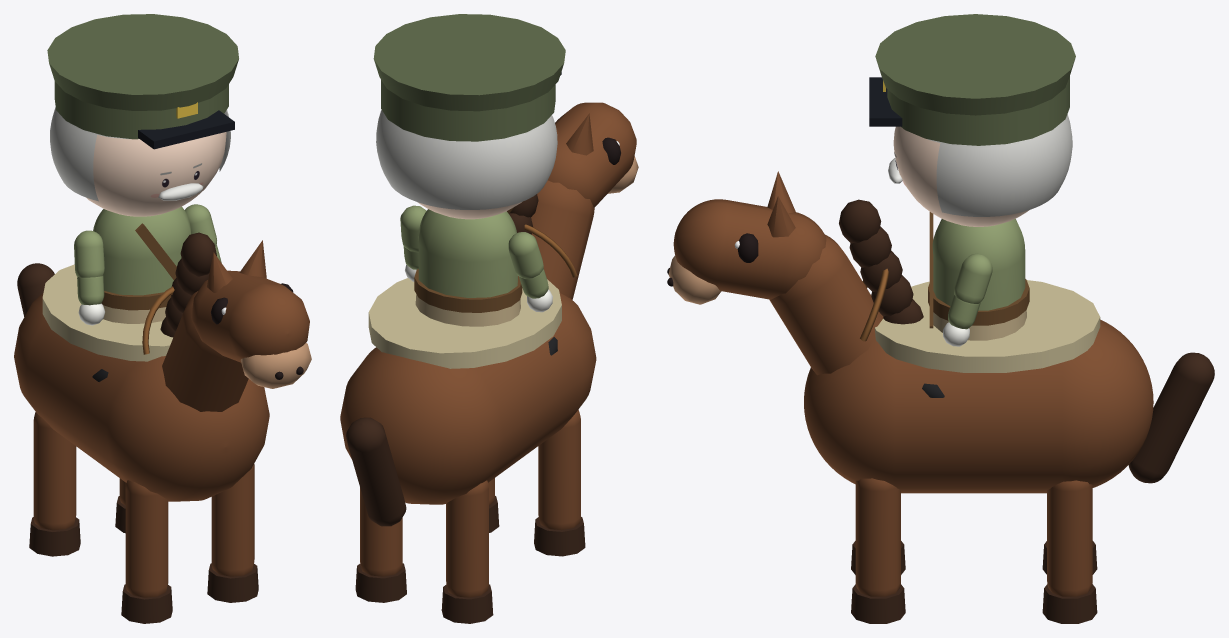
File: old_principal.glb
3 views of the same model, side by side, from view 1: azimuth 30°, elevation 25°; view 2: azimuth 150°, elevation 25°; view 3: azimuth 270°, elevation 25° (orthographic). The views are drawn at different scales.
Visible parts, largest first — view 1: part_51, part_41, part_33, part_77, part_2, part_74, part_98, part_54, part_64, part_59, part_39, part_38 (+19 smaller); view 2: part_51, part_41, part_38, part_98, part_2, part_77, part_39, part_74, part_64, part_54, part_96, part_69 (+11 smaller); view 3: part_51, part_41, part_98, part_77, part_38, part_74, part_2, part_39, part_96, part_59, part_69, part_33 (+12 smaller).
Part boxes in pixels (x1,y1,x2,y2): part_51: (14,292,269,501); part_41: (47,14,238,110); part_33: (86,132,226,216); part_77: (191,270,309,362); part_2: (93,206,191,295); part_74: (162,291,248,411); part_98: (42,264,172,361); part_54: (125,480,168,597); part_64: (33,412,76,530); part_59: (211,464,254,576); part_39: (54,81,228,139); part_38: (50,107,230,201); part_51: (340,293,596,504); part_41: (373,14,565,111); part_38: (376,110,557,209); part_98: (368,278,561,368); part_2: (418,209,517,297); part_77: (548,102,636,207); part_39: (381,80,555,141); part_74: (531,180,594,299); part_64: (446,480,488,597); part_54: (538,409,580,530); part_96: (346,417,406,526); part_69: (360,487,402,576); part_51: (804,319,1153,493); part_41: (875,14,1075,115); part_98: (874,280,1100,372); part_77: (673,199,826,299); part_38: (936,114,1072,216); part_74: (769,234,883,375); part_2: (932,219,1025,310); part_39: (887,76,1069,145); part_96: (1128,352,1214,483); part_59: (855,478,900,596); part_69: (1047,480,1092,596); part_33: (893,126,1029,226).
Size of the model in its own units: 0.792 by 2.33 by 2.16.
Materials: 54 (1 with a texture image).
